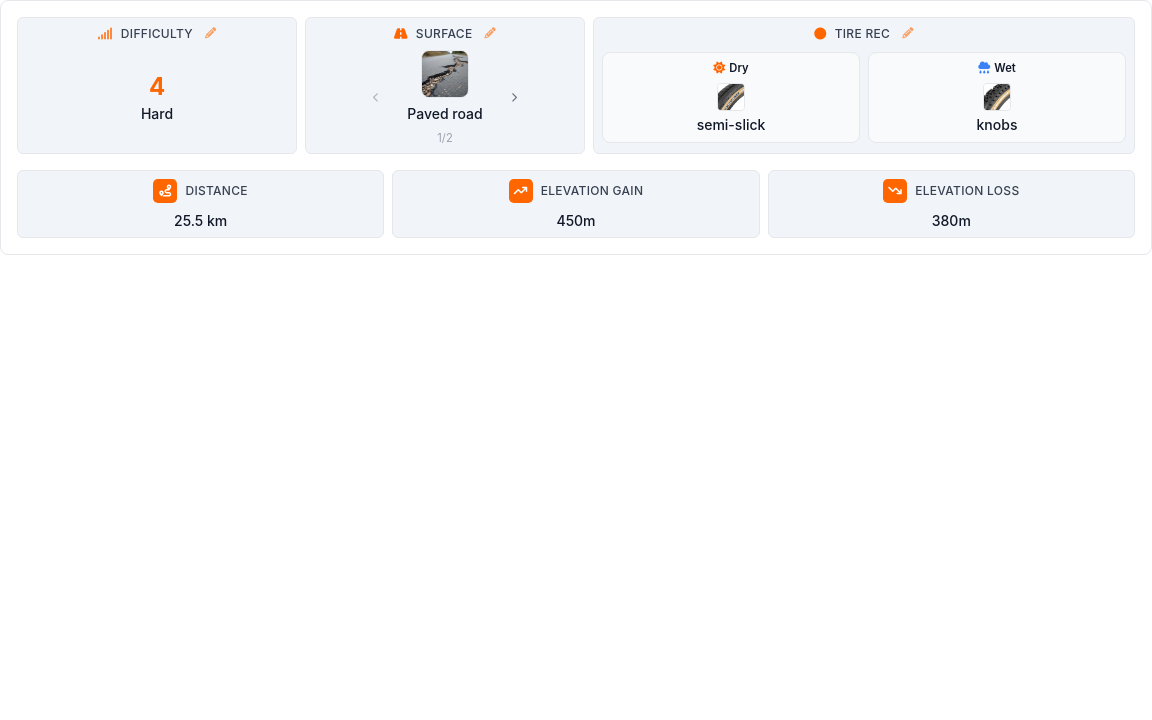
it: RouteInfoCard › Editing Functionality › Surface Editor › should open surface editor when clicking on surface item
The image size is (1152, 720).
Click the element with class "editable" showing "Surface Paved road 1/2": (445, 85) 305,17 -> 585,154
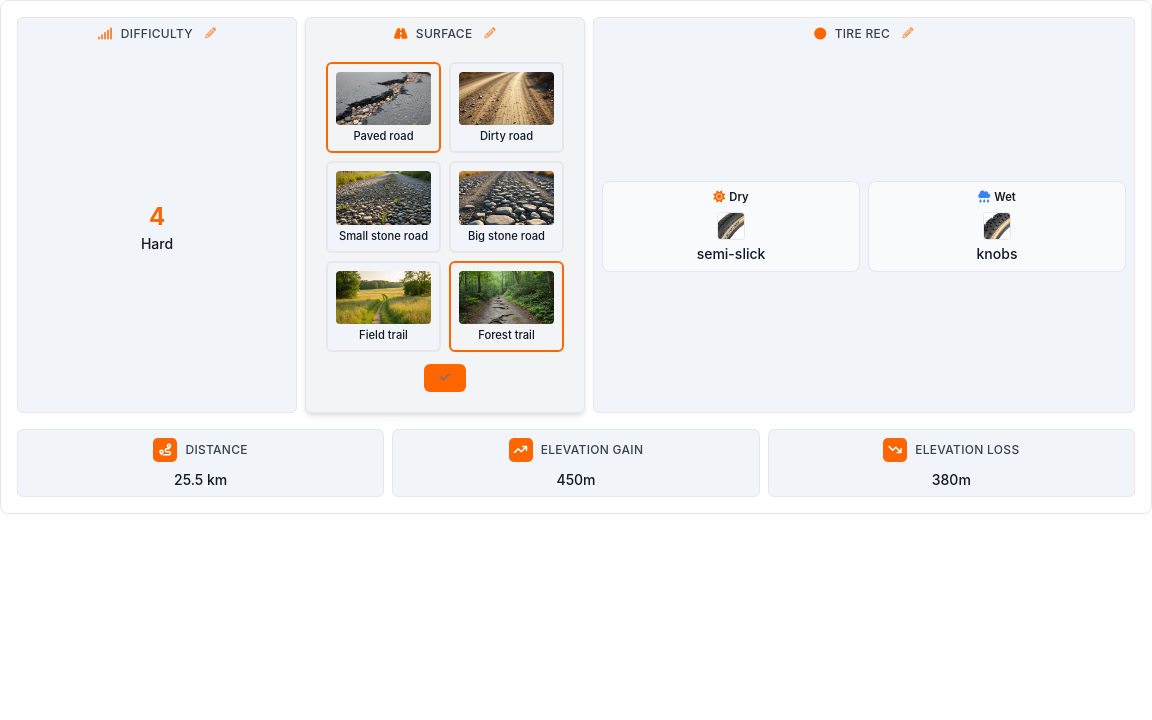
Expected: the element with class "surface-editor" is shown, 314,50 -> 576,404
